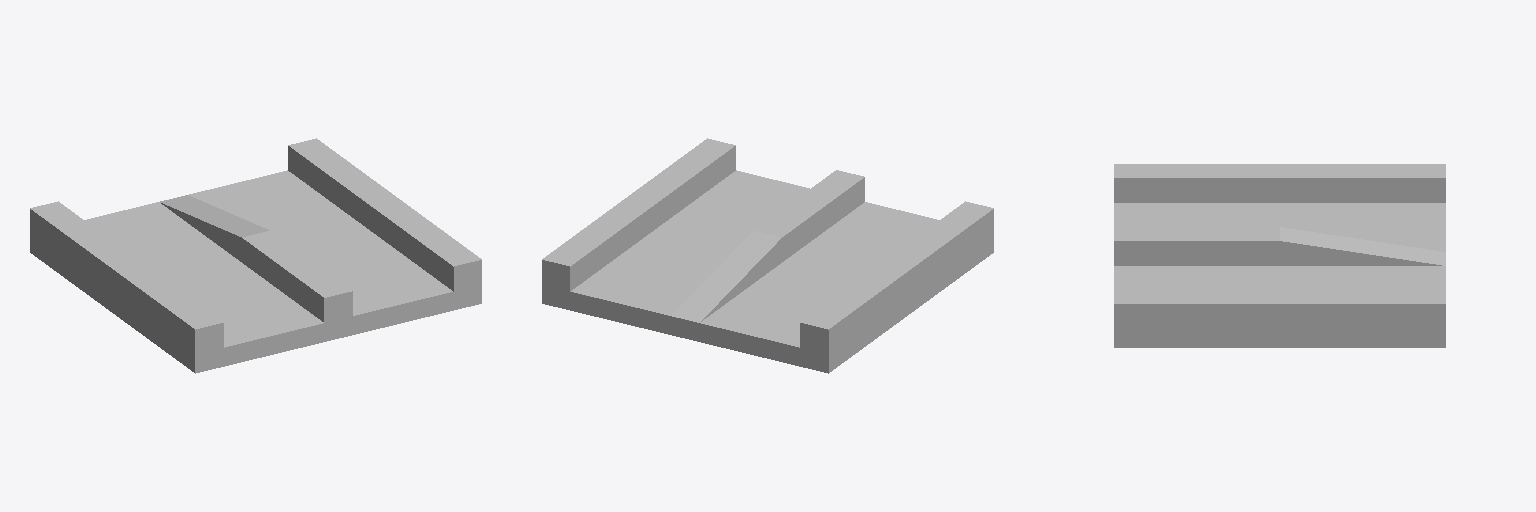
The model's file is splitStart.obj.
The picture shows the model from 3 angles: view 1: azimuth 30°, elevation 25°; view 2: azimuth 150°, elevation 25°; view 3: azimuth 270°, elevation 25°; orthographic projection.
Visible parts, largest first — view 1: splitStart; view 2: splitStart; view 3: splitStart.
Boxes of the visible parts, <box> form: splitStart: <box>30,138,481,373</box>; splitStart: <box>542,138,993,373</box>; splitStart: <box>1114,164,1445,347</box>.
Size of the model in its own units: 0.9999 by 0.1467 by 0.9999.